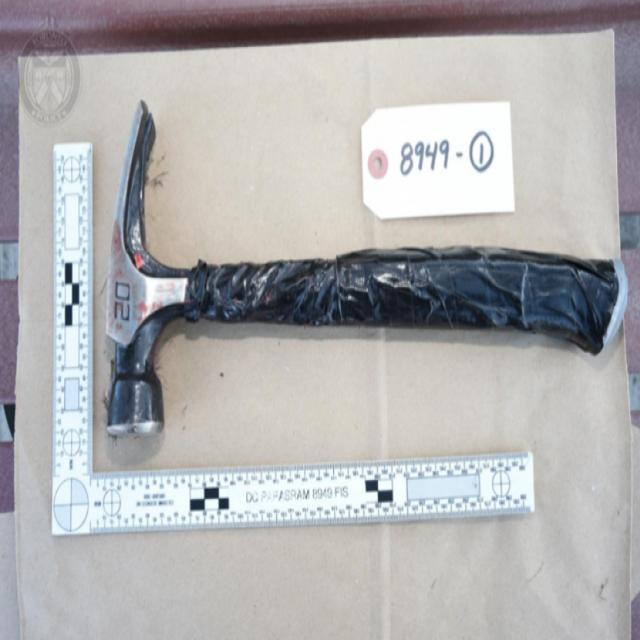hammer: (100, 90, 630, 441)
